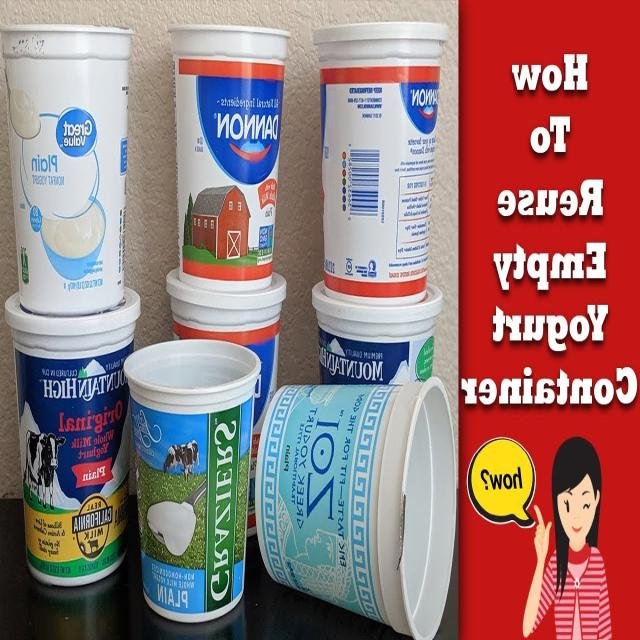plastic: (4, 26, 141, 588), (255, 371, 455, 640), (311, 15, 451, 380), (165, 21, 294, 342), (130, 338, 264, 624)
